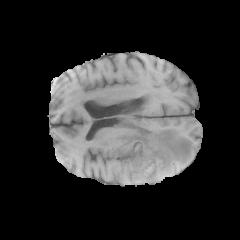glioma: (117, 128, 192, 184)
